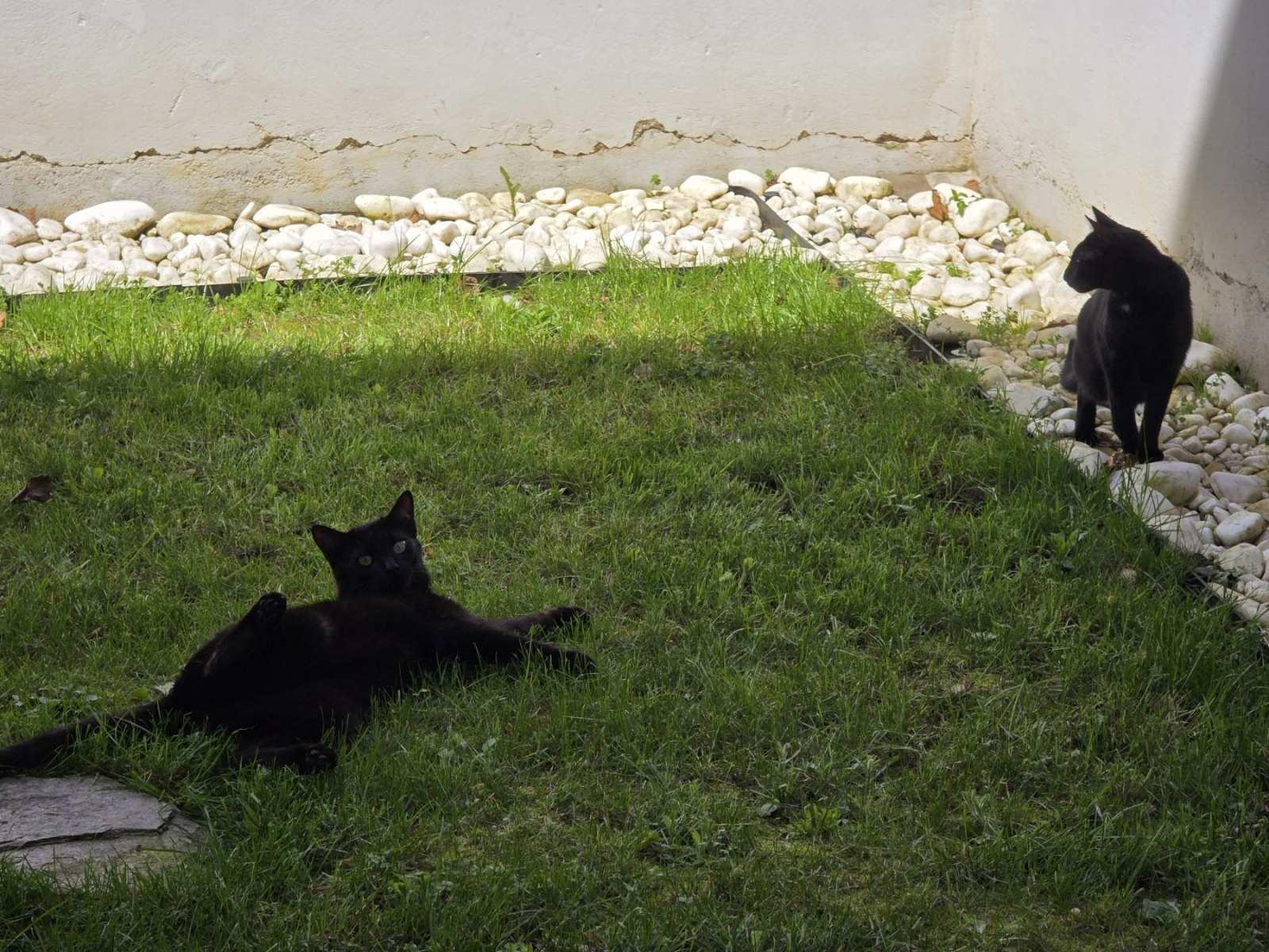macka: (4, 488, 601, 779), (1067, 205, 1194, 464)
